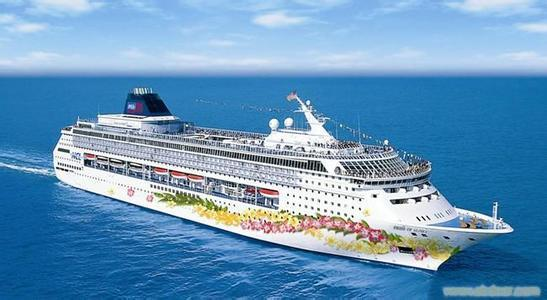youlun: (50, 82, 516, 283)
